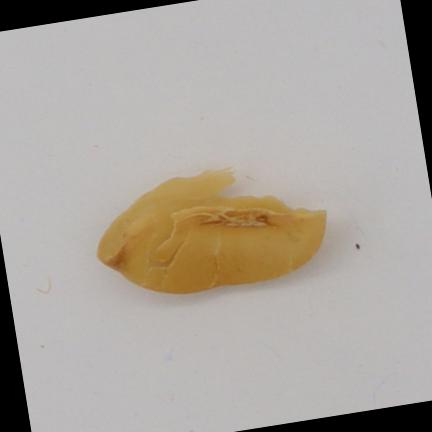parchment: (99, 170, 325, 293)
